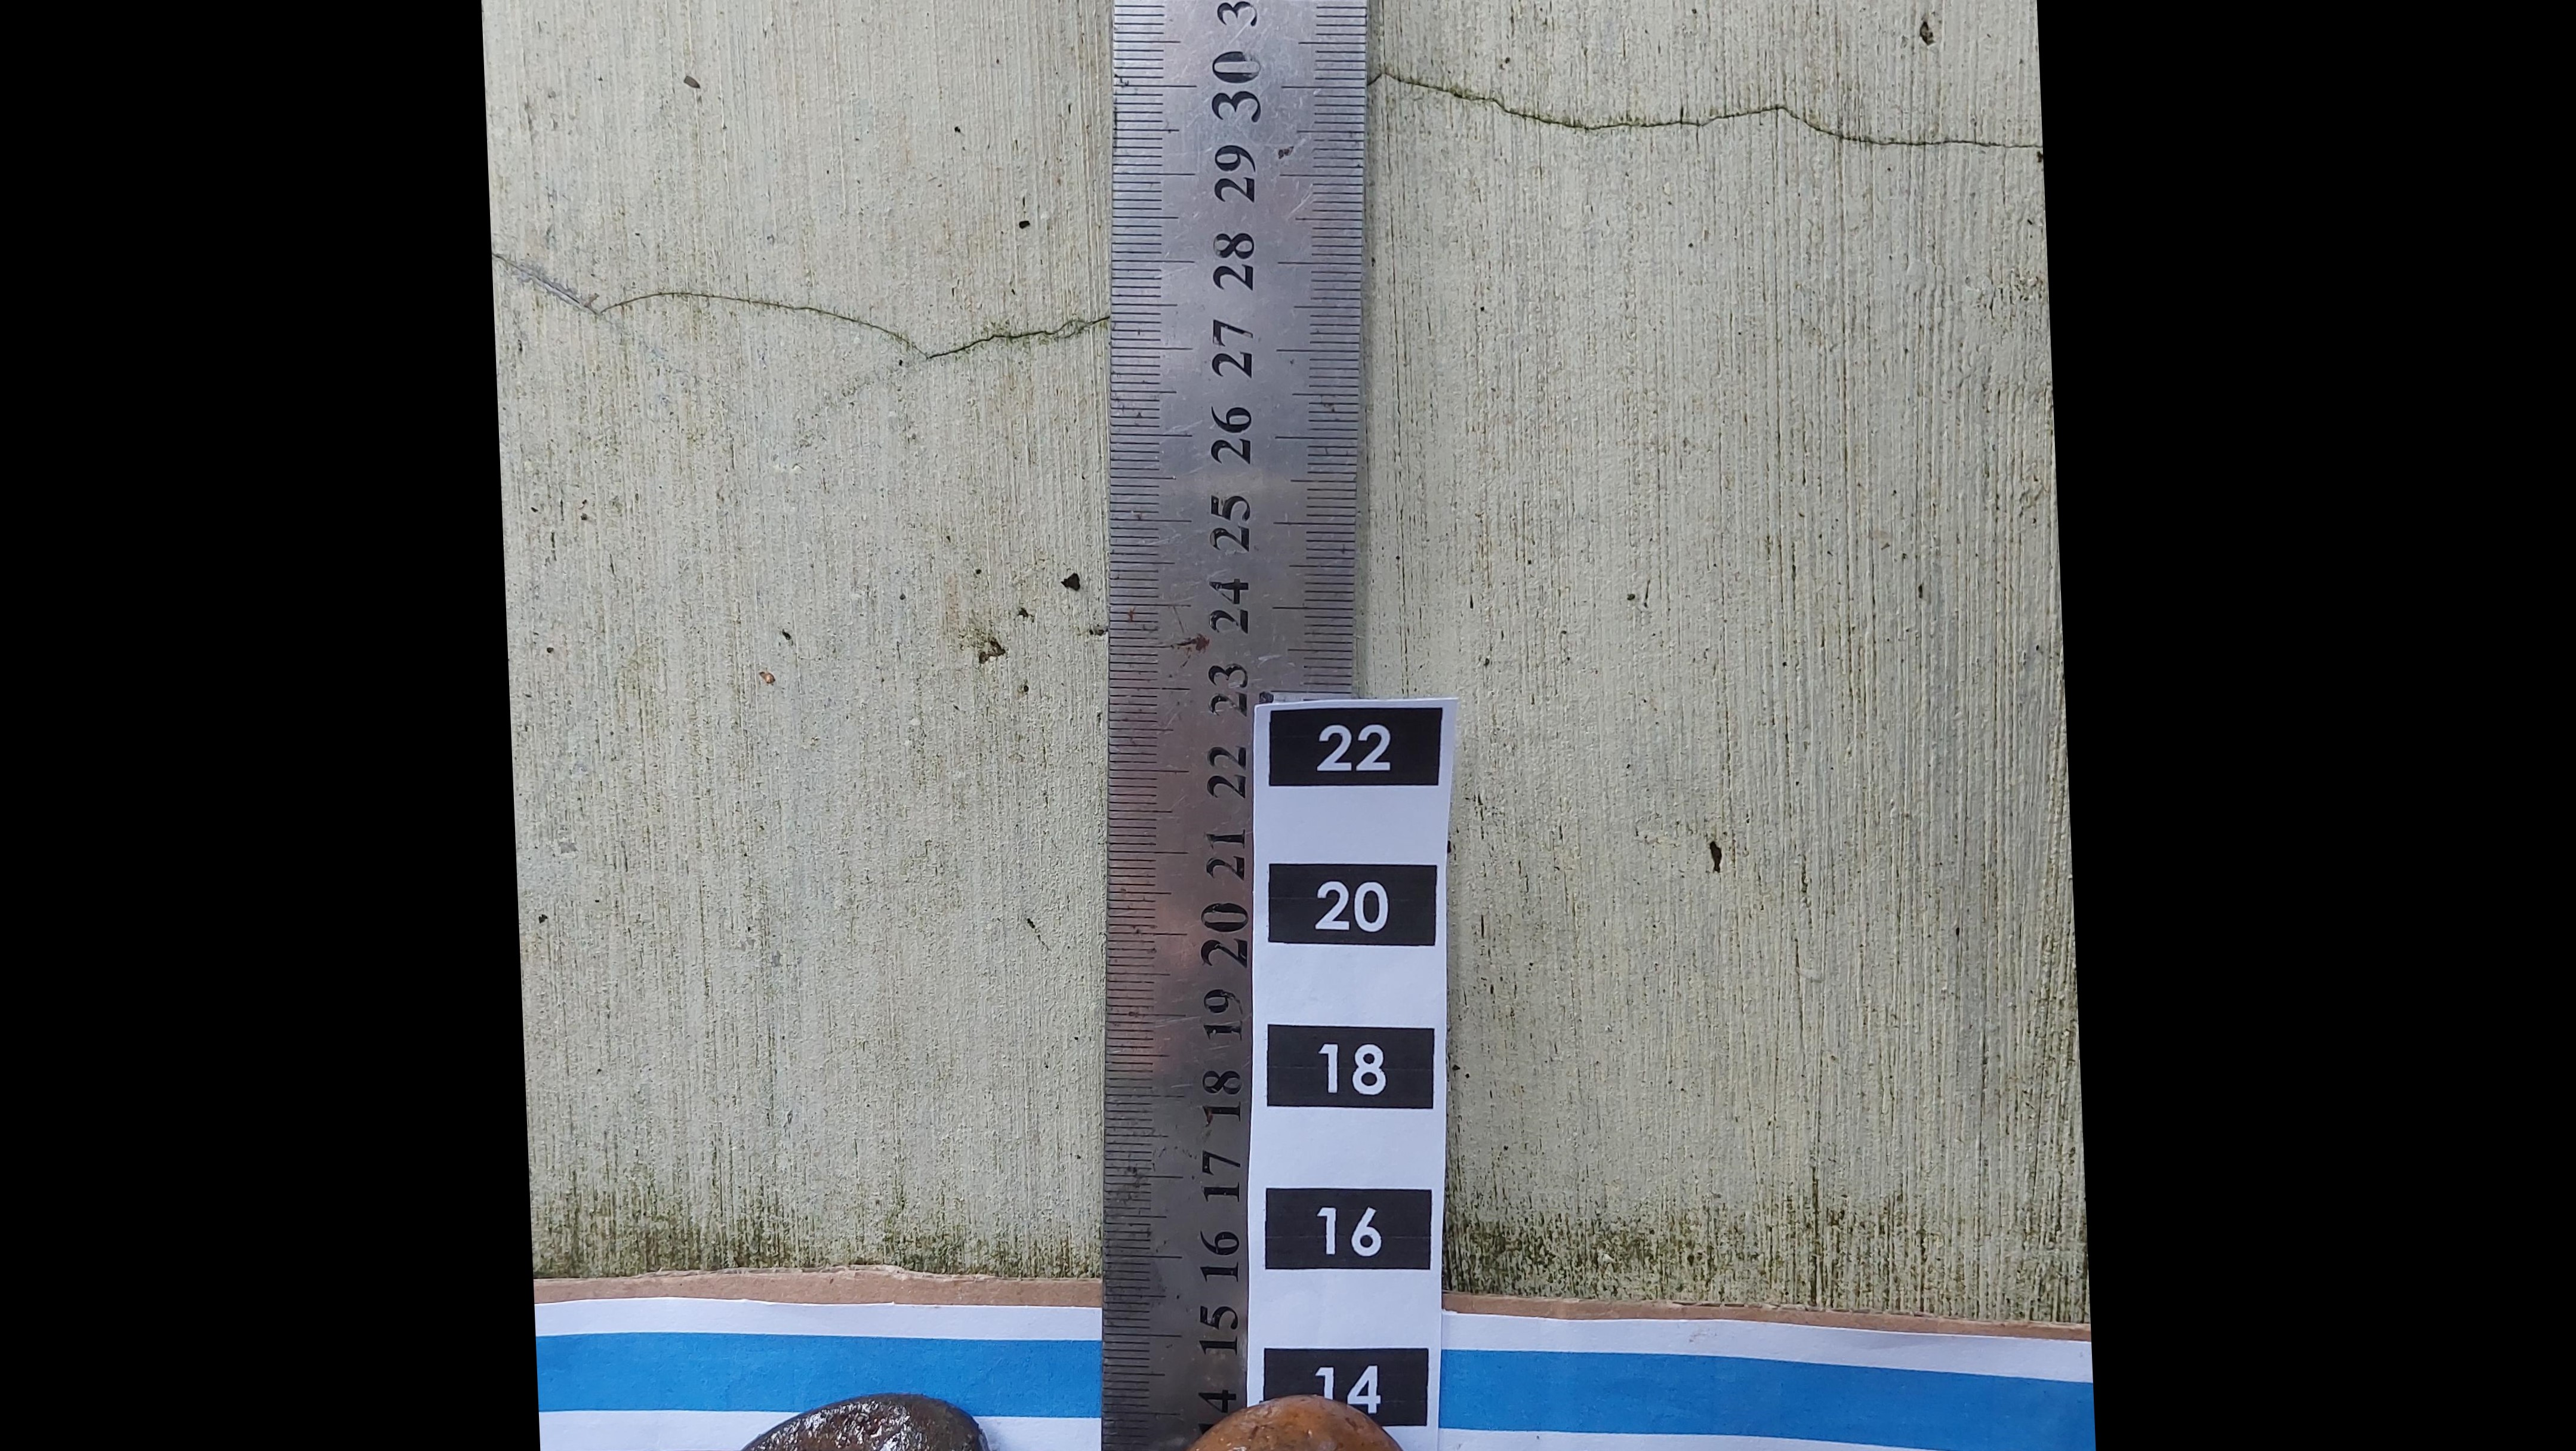kotak_2x1: (1267, 1026, 1437, 1108), (1265, 1186, 1428, 1271), (1270, 864, 1433, 945), (1270, 708, 1437, 787)
